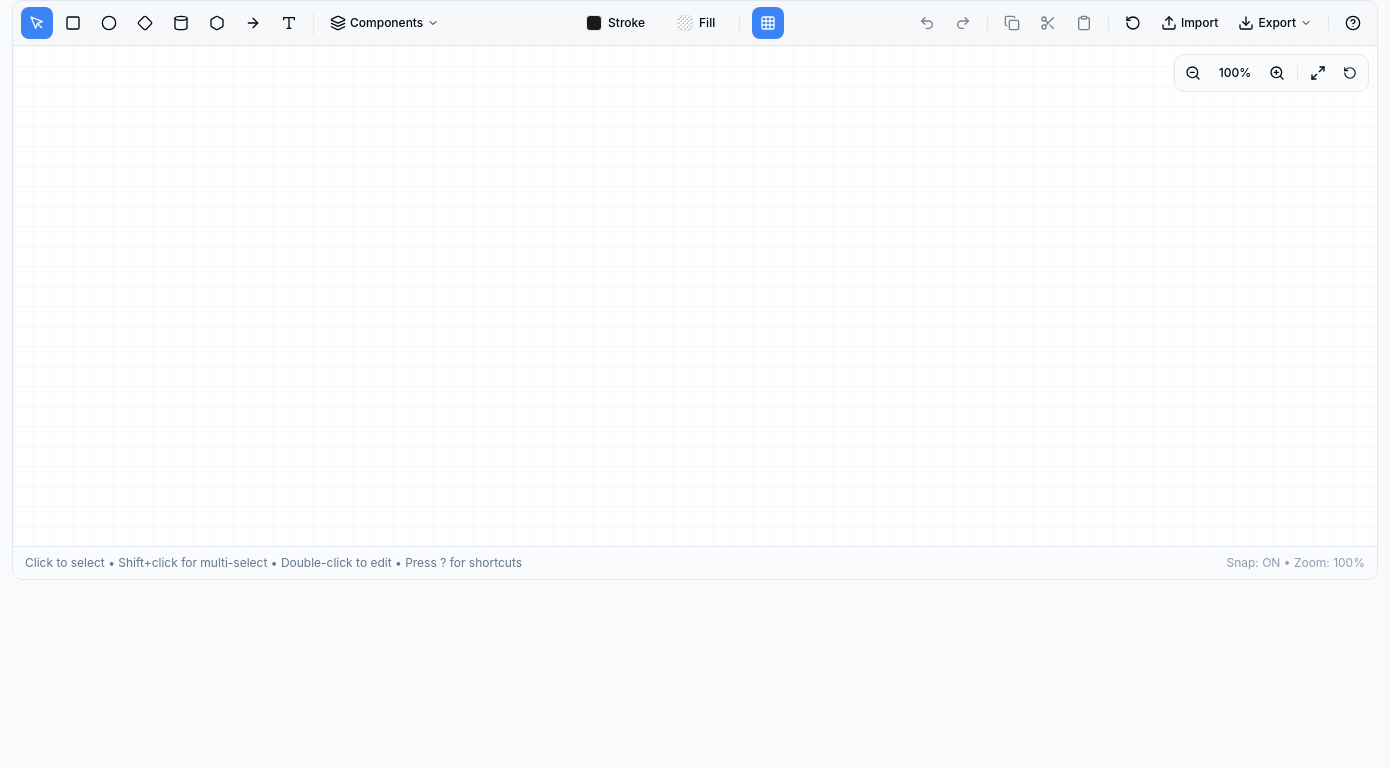
DesignCanvas › Basic Rendering › renders component dropdown menu
# Click to open dropdown
Click the button titled "System Components".
click(385, 23)  # box [322,7,447,39]
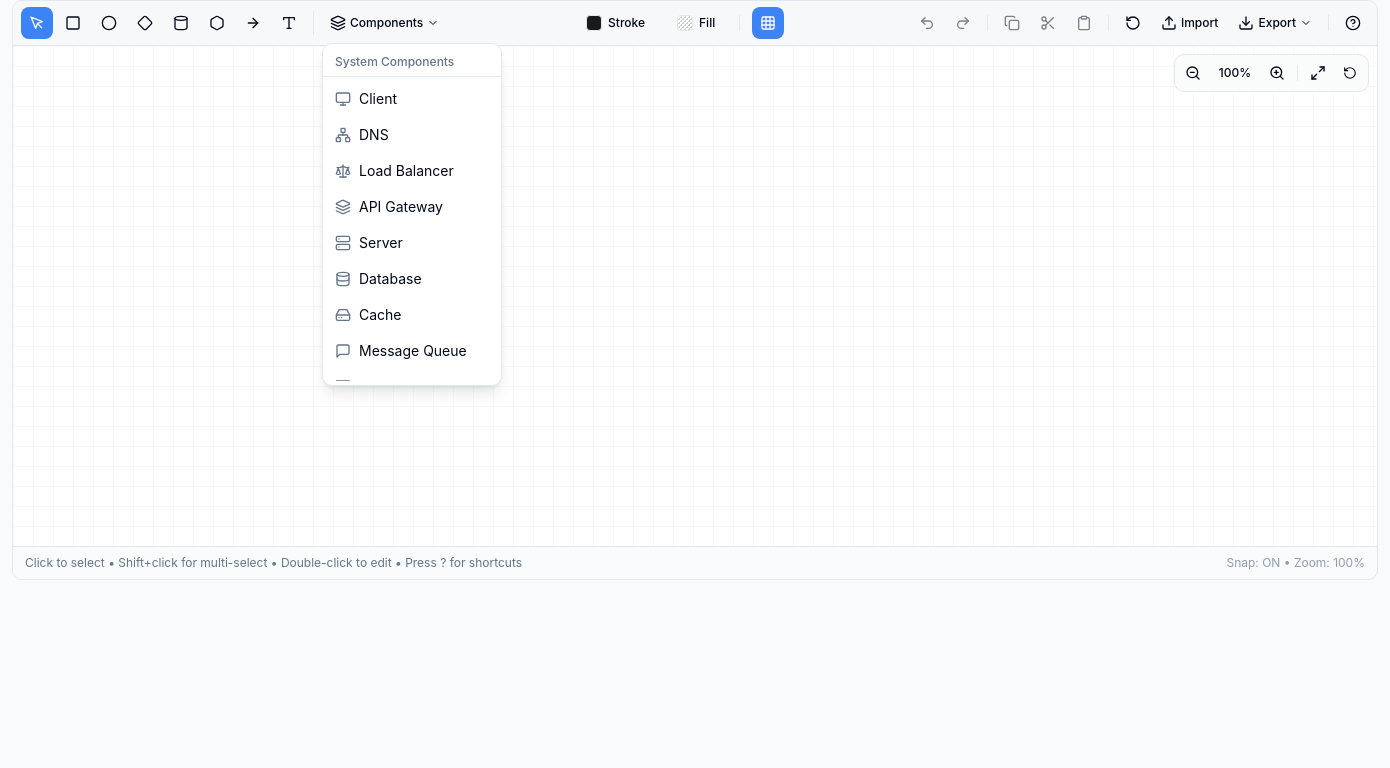
expect the text "Database" is shown: met, box [359,269,422,289]
expect the text "Server" is shown: met, box [359,233,403,253]
